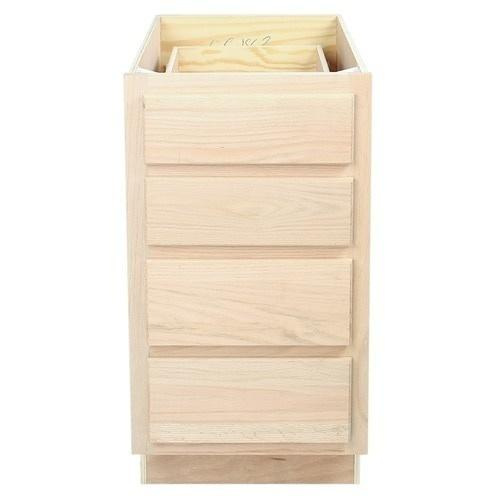cabinet_door: (145, 258, 351, 347), (148, 358, 351, 443), (145, 173, 351, 248), (144, 93, 352, 163)
